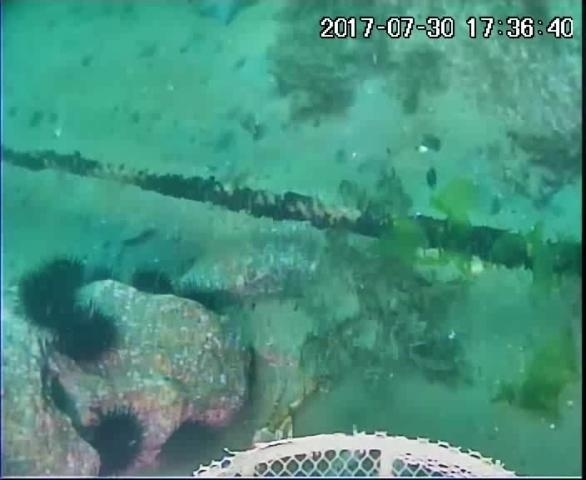echinus: (13, 255, 89, 334), (83, 405, 151, 475), (155, 415, 231, 475), (53, 304, 122, 368), (32, 245, 85, 298), (178, 280, 235, 321), (128, 264, 177, 302), (82, 260, 119, 292)
starfish: (187, 1, 262, 31)
